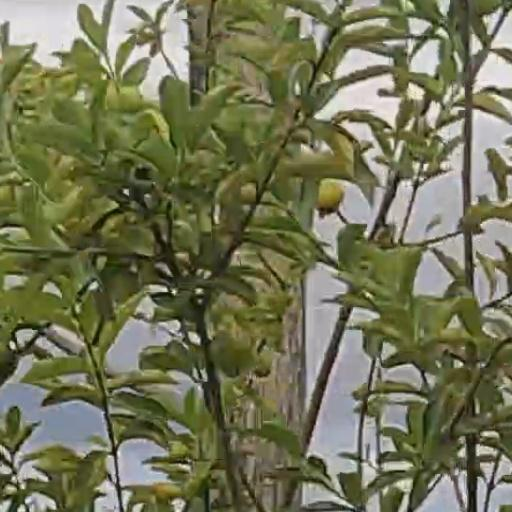acerola: (316, 181, 342, 216)
